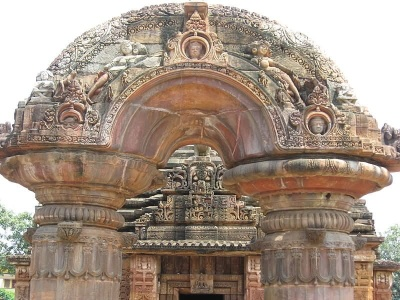torana: (4, 2, 391, 294)
